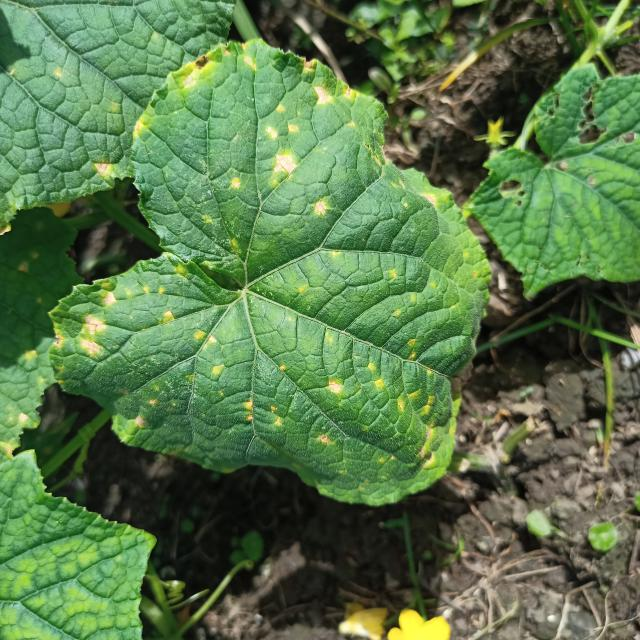disease_cucumber: (81, 42, 468, 499)
